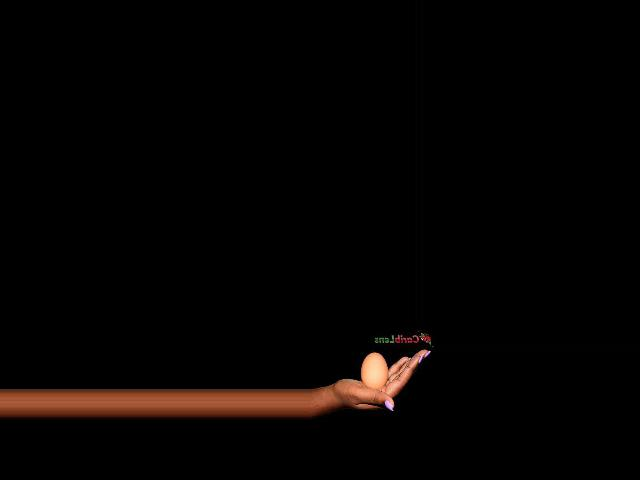egg: (360, 352, 388, 389)
